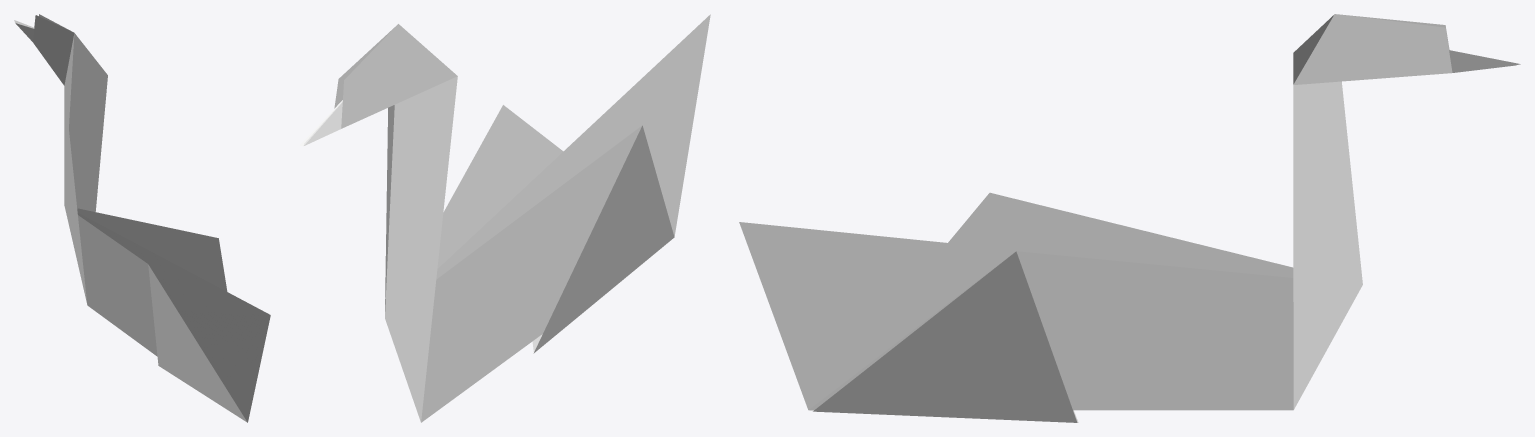
The model's file is swan.gltf.
3 renders of one model, left to right at view 1: azimuth 30°, elevation 25°; view 2: azimuth 150°, elevation 25°; view 3: azimuth 270°, elevation 25°, orthographic. The views are drawn at different scales.
Visible parts, largest first — view 1: plane; view 2: plane; view 3: plane.
Boxes of the visible parts, x1=… form: plane: x1=14, y1=14, x2=270, y2=422; plane: x1=299, y1=14, x2=710, y2=422; plane: x1=739, y1=14, x2=1520, y2=422.
Bounding box in the file's own units: 0.0625 × 0.2037 × 0.3525.
1 material, 1 textured.
